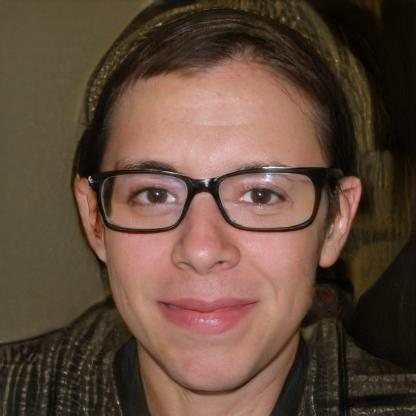glasses: (93, 162, 326, 236)
